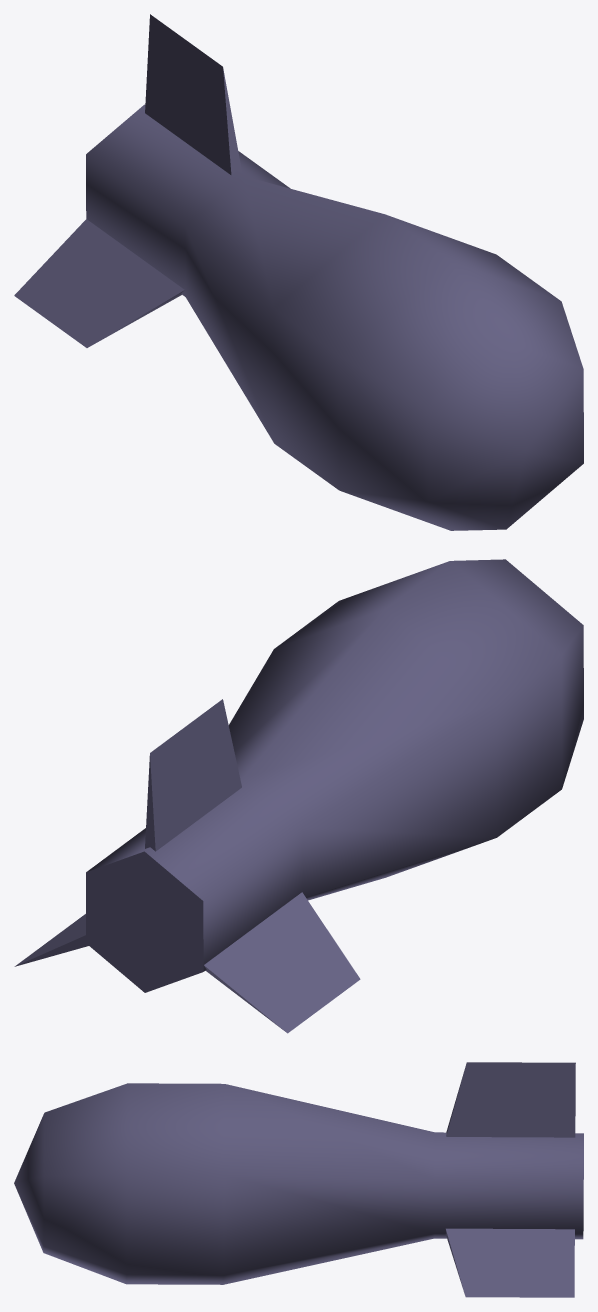
Rendered from Props_Bomb.fbx.
3 views of the same model, one above another, from view 1: azimuth 30°, elevation 25°; view 2: azimuth 150°, elevation 25°; view 3: azimuth 270°, elevation 25° (orthographic). The views are drawn at different scales.
Parts seen in each view (by area): view 1: Props_Bomb; view 2: Props_Bomb; view 3: Props_Bomb.
Boxes of the visible parts, x1,y1,x2,y2 form: Props_Bomb: [14, 14, 583, 530]; Props_Bomb: [14, 559, 583, 1033]; Props_Bomb: [14, 1062, 583, 1297].
Bounding box in the file's own units: 2.01 × 2.09 × 4.86.
